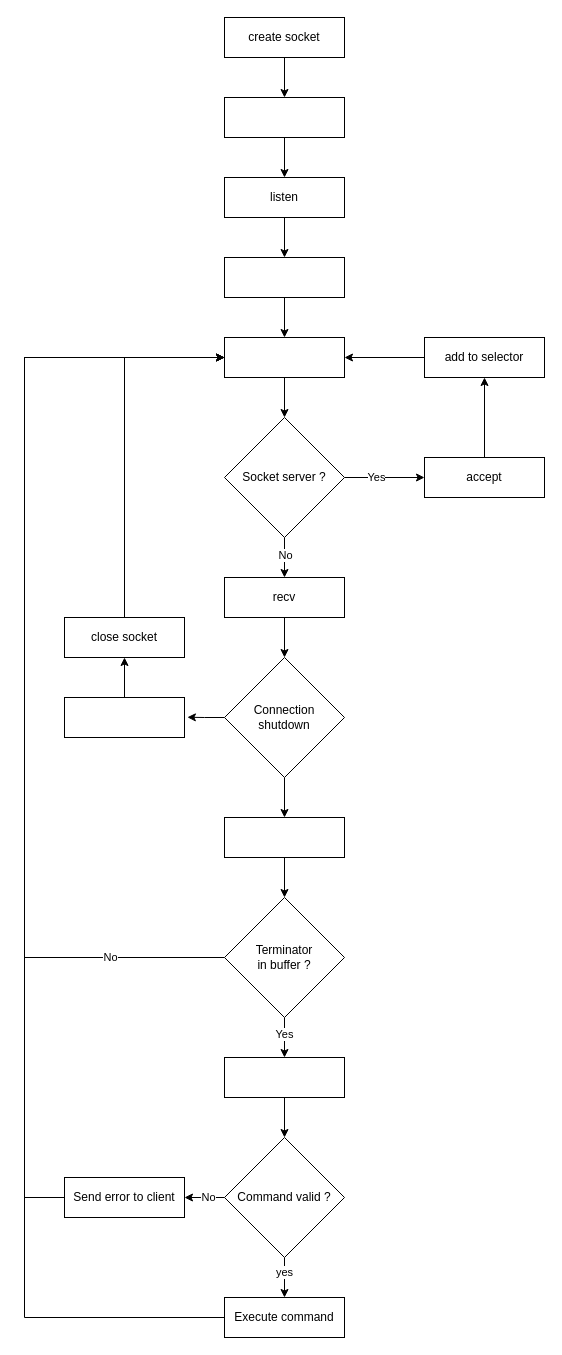
Some shapes in this 562 by 1355 pixel diagram are drawn without their labels. Each missing label, with the box of its shape:
Add socket to select: (224, 256, 344, 298)
append to selector buffer: (224, 816, 344, 858)
bind: (224, 96, 344, 138)
Parse buffer to IRC command: (224, 1056, 344, 1098)
remove socket from selector: (64, 696, 184, 738)
select: (224, 336, 344, 378)
